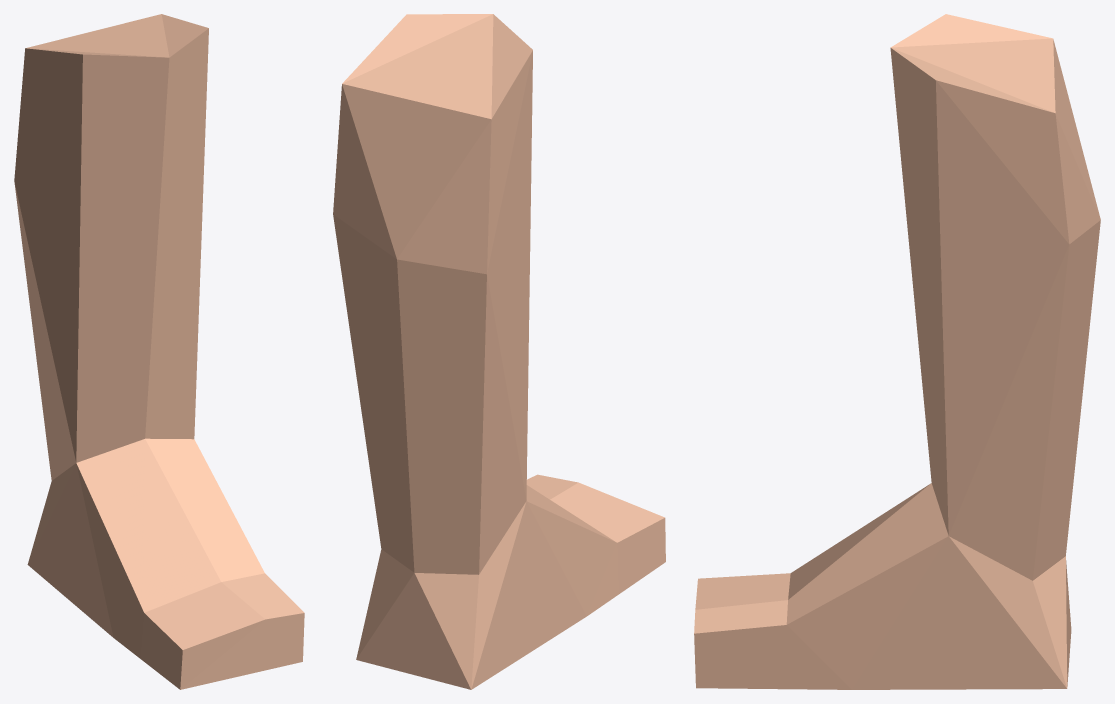
Rendered from Chr_LegLeft_Male_00_Static.fbx.
3 renders of one model, left to right at view 1: azimuth 30°, elevation 25°; view 2: azimuth 150°, elevation 25°; view 3: azimuth 270°, elevation 25°, orthographic. The views are drawn at different scales.
Visible parts, largest first — view 1: Chr_LegLeft_Male_00_Static; view 2: Chr_LegLeft_Male_00_Static; view 3: Chr_LegLeft_Male_00_Static.
Boxes of the visible parts, x1,y1,x2,y2 form: Chr_LegLeft_Male_00_Static: (14, 14, 304, 689); Chr_LegLeft_Male_00_Static: (333, 14, 665, 689); Chr_LegLeft_Male_00_Static: (694, 14, 1100, 689).
Bounding box in the file's own units: 0.1095 × 0.404 × 0.242.
